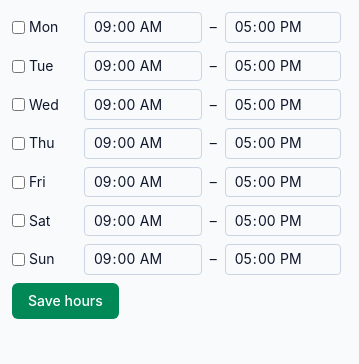
Scenario: HoursEditor › blocks saving impossible hours
The width and height of the screenshot is (359, 364).
Click the checkbox labelled "Mon": (18, 27) [12, 21, 25, 34]
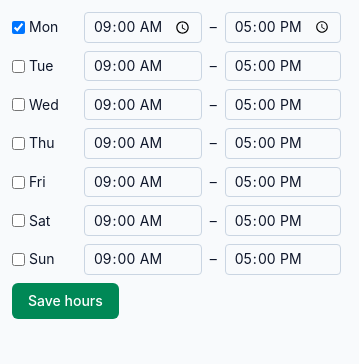
Replace the text in the time field named "Mon end" with "08:00": (283, 27) [225, 12, 341, 43]
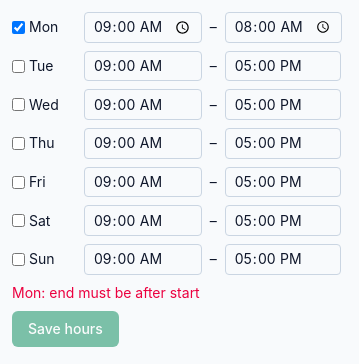
Expected: the message reads "Mon: end must be after start", [12, 284, 200, 301]
Expected: the button "Save hours" is disabled, [12, 311, 119, 347]
